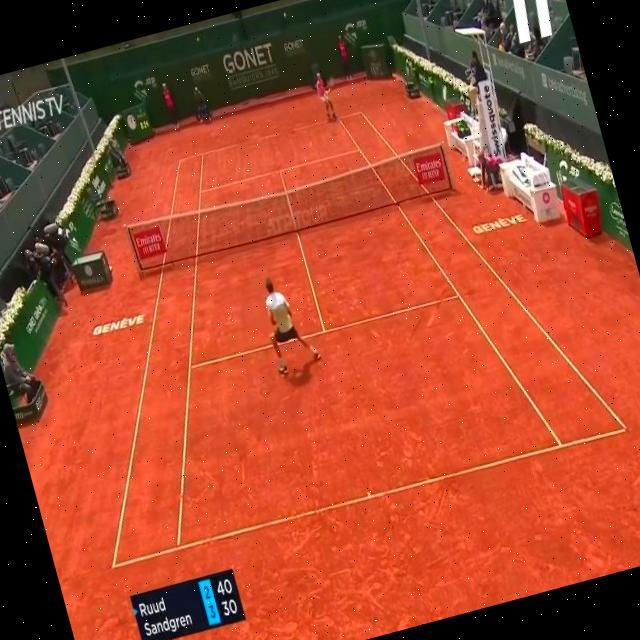court: (13, 64, 628, 568)
net: (123, 139, 457, 275)
player: (254, 268, 324, 376)
